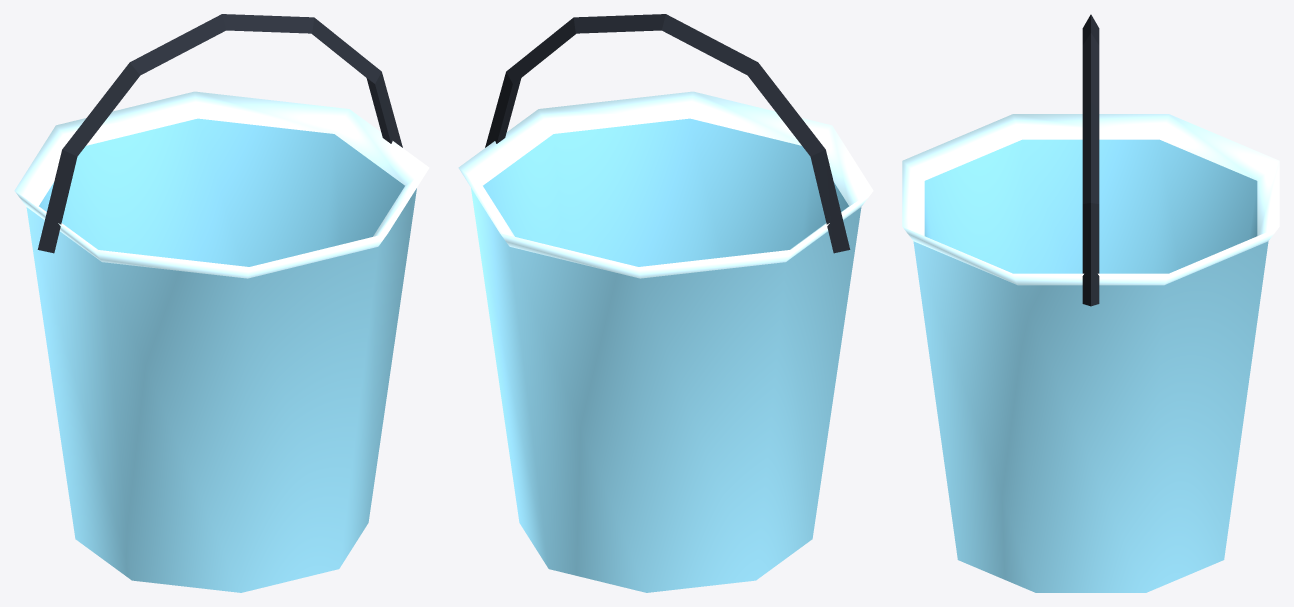
Rendered from iron-bucket.glb.
3 views of the same model, side by side, from view 1: azimuth 30°, elevation 25°; view 2: azimuth 150°, elevation 25°; view 3: azimuth 270°, elevation 25° (orthographic). The views are drawn at different scales.
Parts seen in each view (by area): view 1: iron-bucket; view 2: iron-bucket; view 3: iron-bucket.
Part boxes in pixels (box(x1,y1,x2,y2)): iron-bucket: box(14, 14, 429, 592); iron-bucket: box(458, 14, 873, 592); iron-bucket: box(902, 14, 1279, 592).
Bounding box in the file's own units: 0.3455 × 0.463 × 0.3141.
